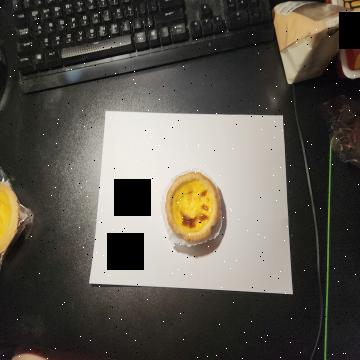EggTart: (166, 172, 220, 244)
